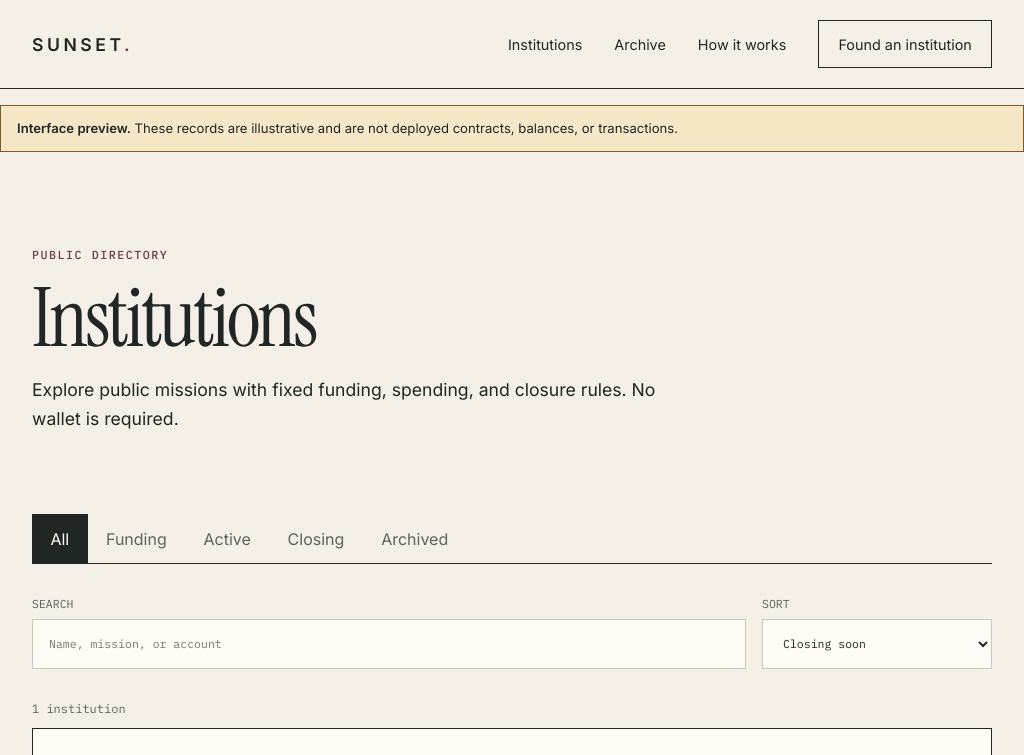
Journey A › filters labeled preview records
The width and height of the screenshot is (1024, 755).
Expected: the text "Interface preview." is shown, 17,120 -> 131,136
Type "no match" into the field labelled "Search" at (389, 644), box 32,619 -> 746,669
(page scrolled)
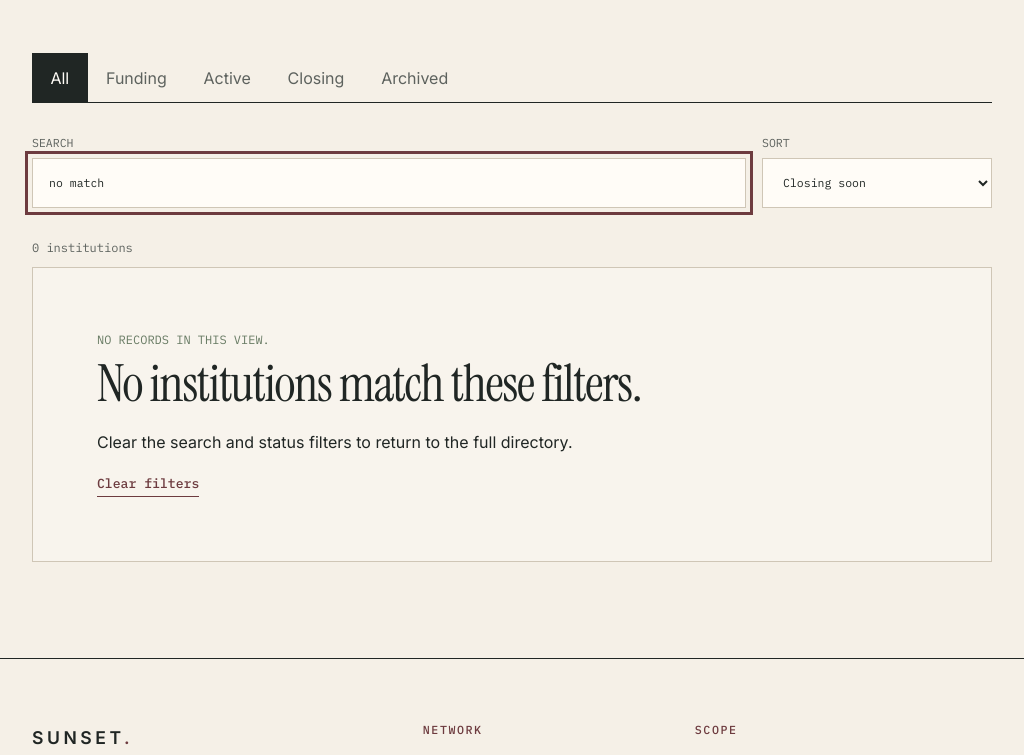
Now the heading "No institutions match these filters." is shown, box 97,350 -> 641,417
